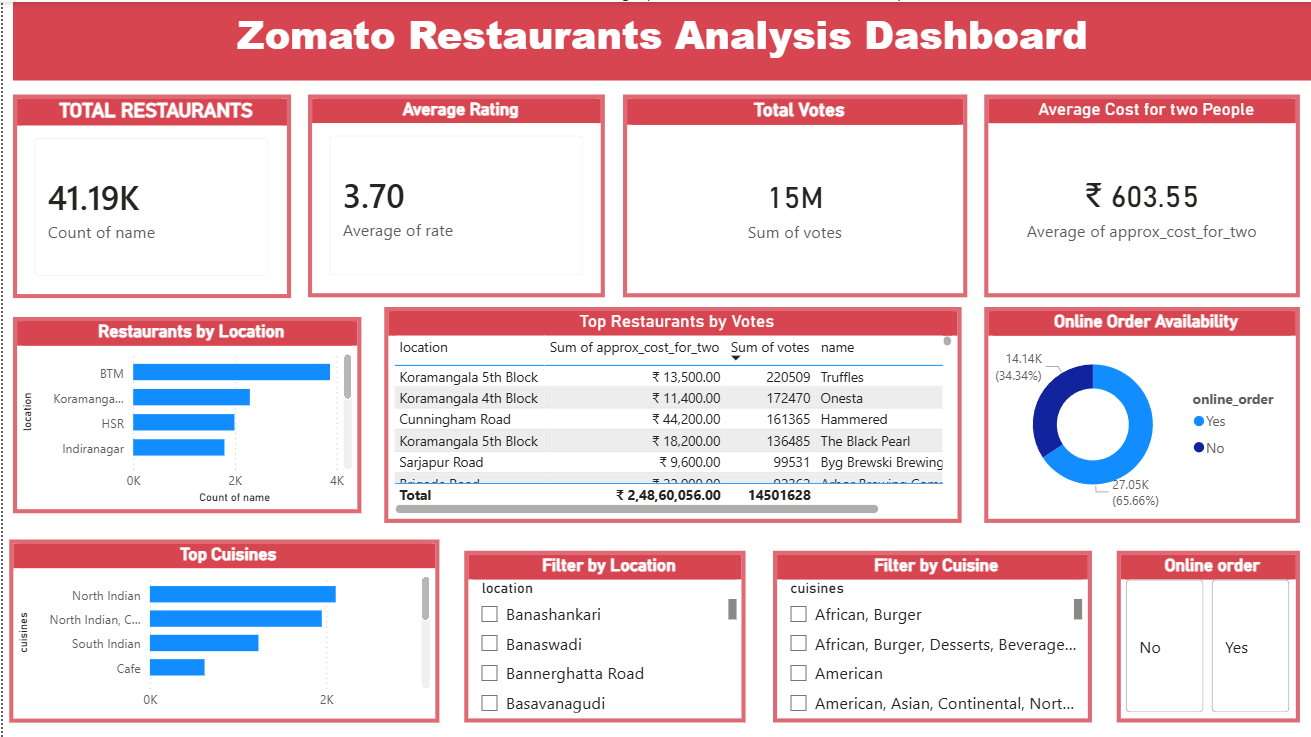

What the dashboard file says about the page in this screenshot:
{"tool":"powerbi","page":{"name":"Page 1","canvas":[1280,720],"ordinal":0},"visuals":[{"type":"textbox","box":[9.6,0,1270.7,76.8],"z":0},{"type":"cardVisual","title":"TOTAL RESTAURANTS","fields":{"Data":["CountNonNull(zomato_cleaned_final.name)"]},"box":[9.6,90.6,271.7,199],"z":1000},{"type":"cardVisual","title":"Average Rating","fields":{"Data":["Avg(zomato_cleaned_final.rate)"]},"box":[298.4,90.6,290.7,198.4],"z":2000},{"type":"card","title":"Total Votes ","fields":{"Values":["Sum(zomato_cleaned_final.votes)"]},"box":[606.1,90.6,336.8,198.4],"z":3000},{"type":"card","title":"Average Cost for two People ","fields":{"Values":["Avg(zomato_cleaned_final.approx_cost_for_two)"]},"box":[960,90.6,308.8,198.4],"z":4000},{"type":"clusteredBarChart","title":"Restaurants by Location","fields":{"Category":["zomato_cleaned_final.location"],"Y":["CountNonNull(zomato_cleaned_final.name)"]},"box":[9.8,308,340.7,192.1],"z":5000},{"type":"clusteredBarChart","title":"Top Cuisines","fields":{"Category":["zomato_cleaned_final.cuisines"],"Y":["CountNonNull(zomato_cleaned_final.name)"]},"box":[5.6,525.4,420.6,178.9],"z":6000},{"type":"donutChart","title":"Online Order Availability","fields":{"Category":["zomato_cleaned_final.online_order"],"Y":["CountNonNull(zomato_cleaned_final.name)"]},"box":[960,298.5,308.8,211],"z":7000},{"type":"tableEx","title":"Top Restaurants by Votes","fields":{"Values":["zomato_cleaned_final.location","Sum(zomato_cleaned_final.approx_cost_for_two)","Sum(zomato_cleaned_final.votes)","zomato_cleaned_final.name"]},"box":[373,298.5,564.5,211],"z":8000},{"type":"slicer","title":"Filter by Location","fields":{"Values":["zomato_cleaned_final.location"]},"box":[451.8,536.6,275.3,167.7],"z":9000},{"type":"slicer","title":"Filter by Cuisine","fields":{"Values":["zomato_cleaned_final.cuisines"]},"box":[752.7,536.6,311.6,167.7],"z":10000},{"type":"advancedSlicerVisual","title":"Online order","fields":{"Values":["zomato_cleaned_final.online_order"]},"box":[1090,536.6,178.9,167.7],"z":11001}]}

Visuals, with their boxes in screenshot pixels (x1, y1, x2, y2), scaled from the page's 1280x720 canvas onto the 1311x737 screenshot:
textbox: 10,0,1310,79
"TOTAL RESTAURANTS" cardVisual: 10,93,288,296
"Average Rating" cardVisual: 306,93,603,296
"Total Votes " card: 621,93,966,296
"Average Cost for two People " card: 983,93,1300,296
"Restaurants by Location" clusteredBarChart: 10,315,359,512
"Top Cuisines" clusteredBarChart: 6,538,437,721
"Online Order Availability" donutChart: 983,306,1300,522
"Top Restaurants by Votes" tableEx: 382,306,960,522
"Filter by Location" slicer: 463,549,745,721
"Filter by Cuisine" slicer: 771,549,1090,721
"Online order" advancedSlicerVisual: 1116,549,1300,721
